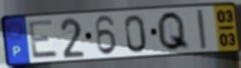0: (123, 13, 149, 54)
2: (59, 16, 87, 60)
6: (94, 14, 119, 57)
E: (27, 18, 61, 60)
I: (194, 8, 209, 51)
Q: (156, 10, 192, 53)
